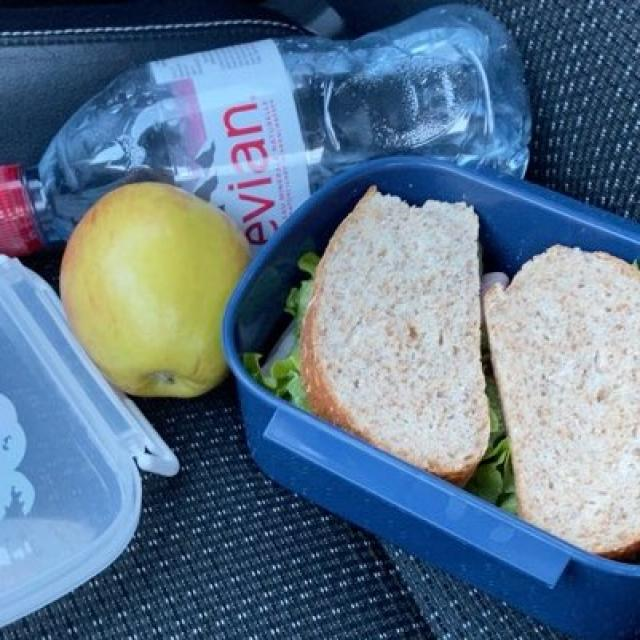apple: (71, 182, 249, 408)
water: (44, 12, 489, 208)
